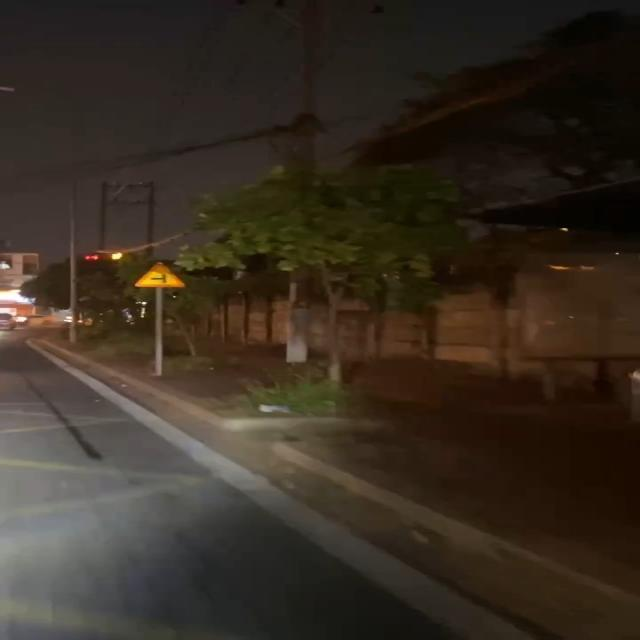205-duong-giao-nhau: (133, 260, 187, 290)
